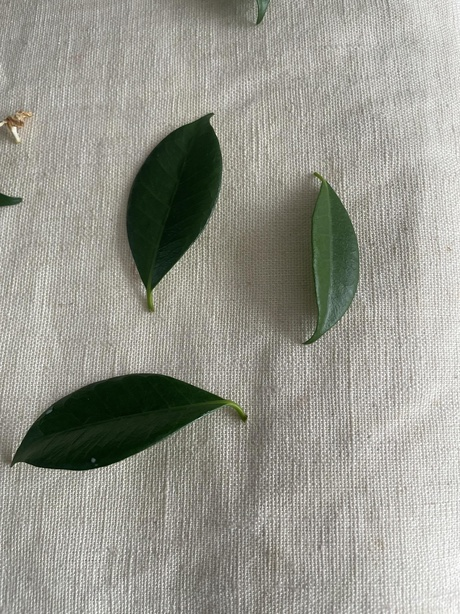leaf: (14, 372, 231, 474), (123, 111, 228, 292), (311, 170, 361, 353)
